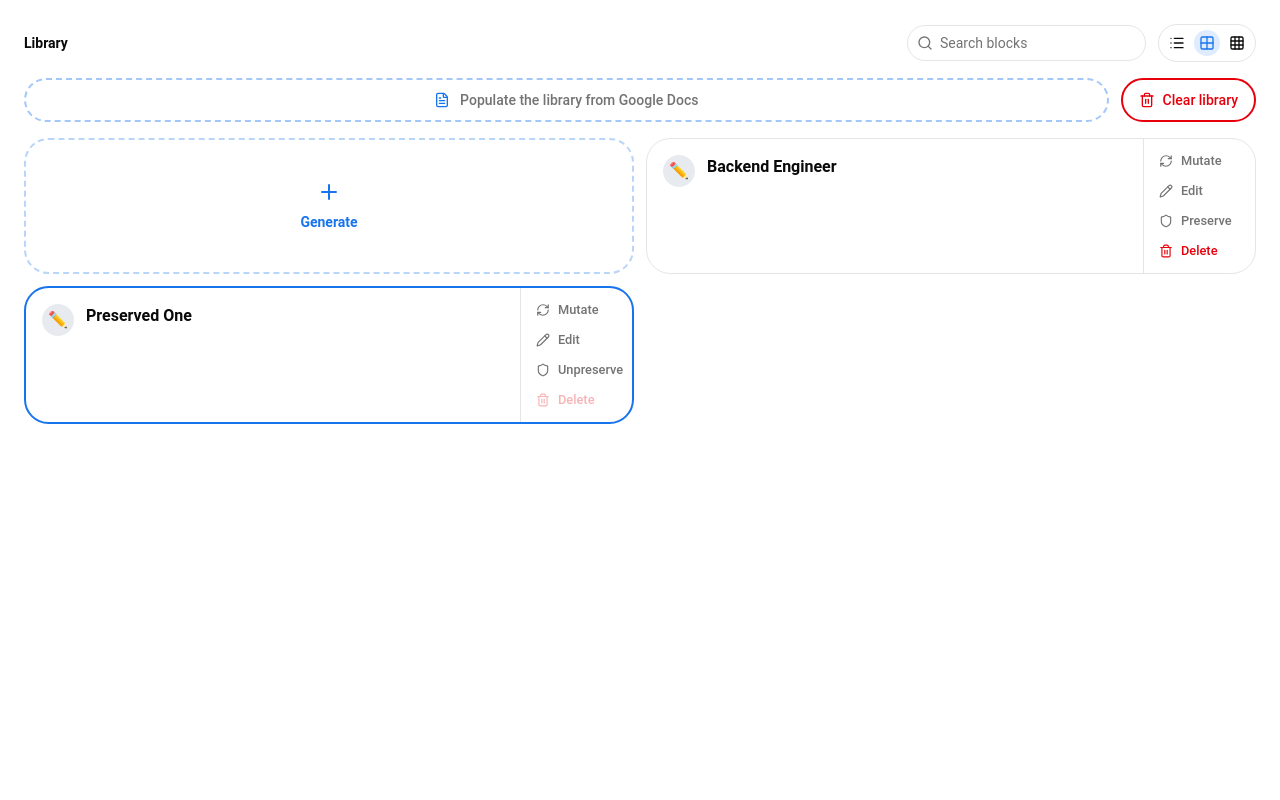
Scenario: clearing the library always shows its own warning even when the per-block delete warning is suppressed, then clears and toasts
expect the text "Backend Engineer" is shown: met, box [707,157,837,176]
What coordinates should you click on to do the following:
click the button "Clear library"
I would click on:
 (1188, 100)
Its box is [1121,78,1256,122].
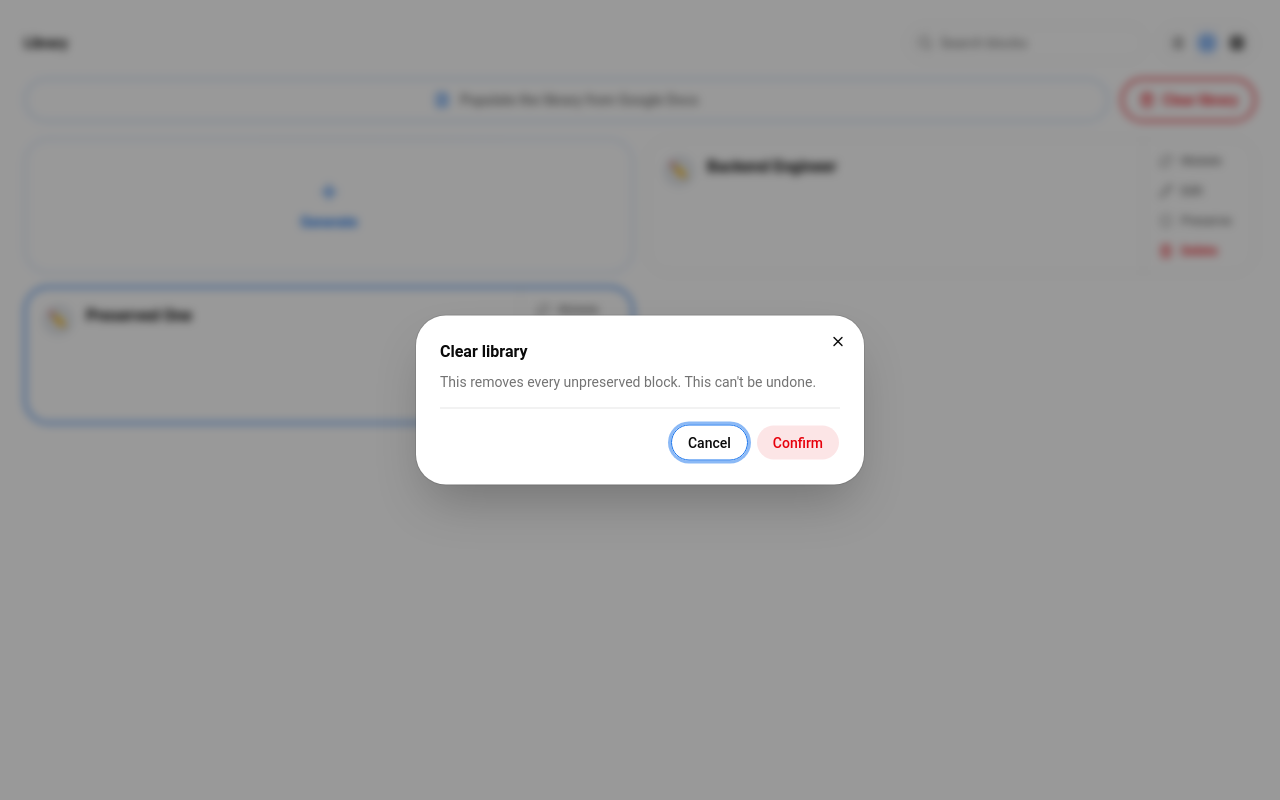
expect the heading "Clear library" is shown: met, box [440,342,528,360]
What coordinates should you click on to do the following:
click the button "Confirm"
I would click on:
 (798, 442)
Its box is [756,424,840,460].
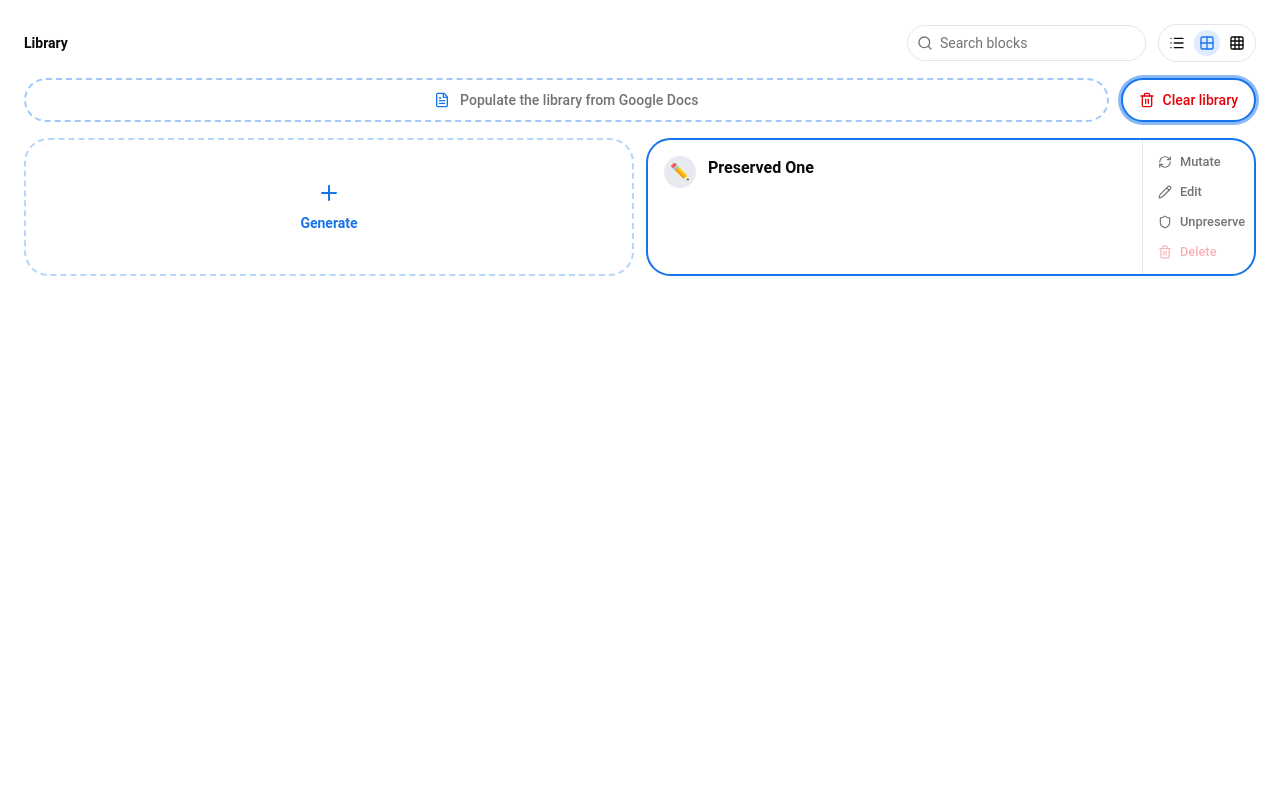
expect the text "Preserved One" is shown: met, box [708,158,814,177]
expect the button "Backend Engineer" is gone: met
